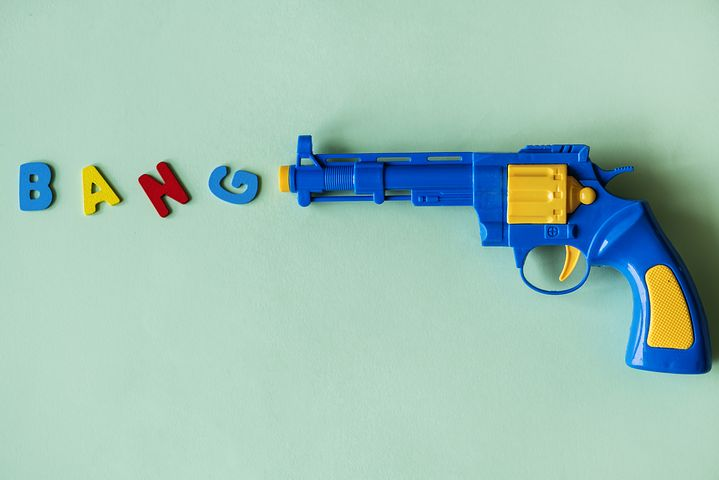gun: (276, 128, 719, 381)
